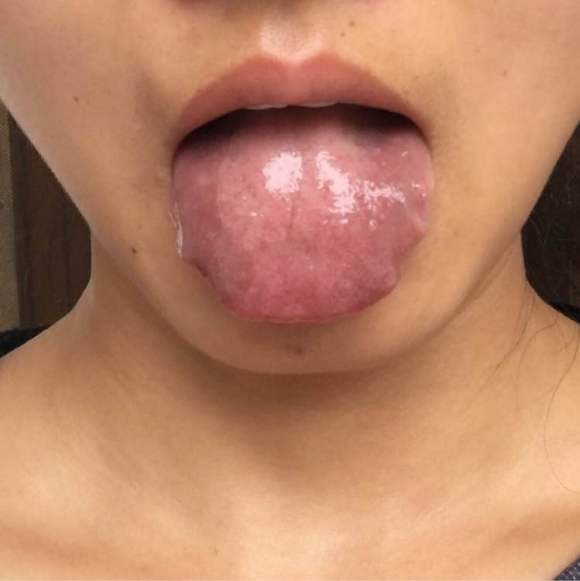chihenshe: (172, 223, 224, 303)
hongshe: (172, 104, 433, 324)
pangdashe: (172, 104, 433, 324)
